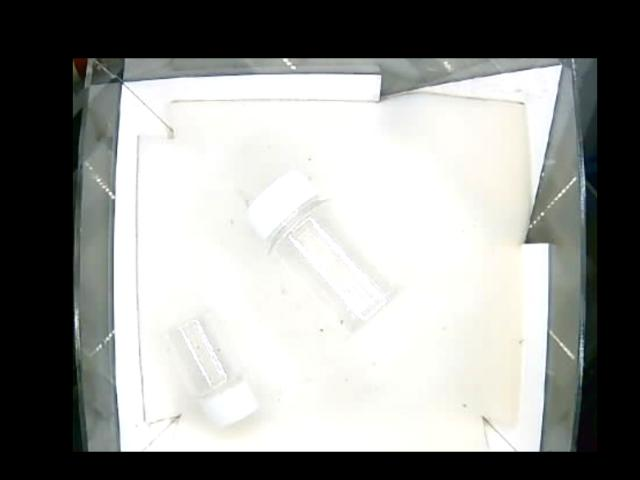Bottle: (247, 171, 399, 332), (162, 315, 270, 428)
